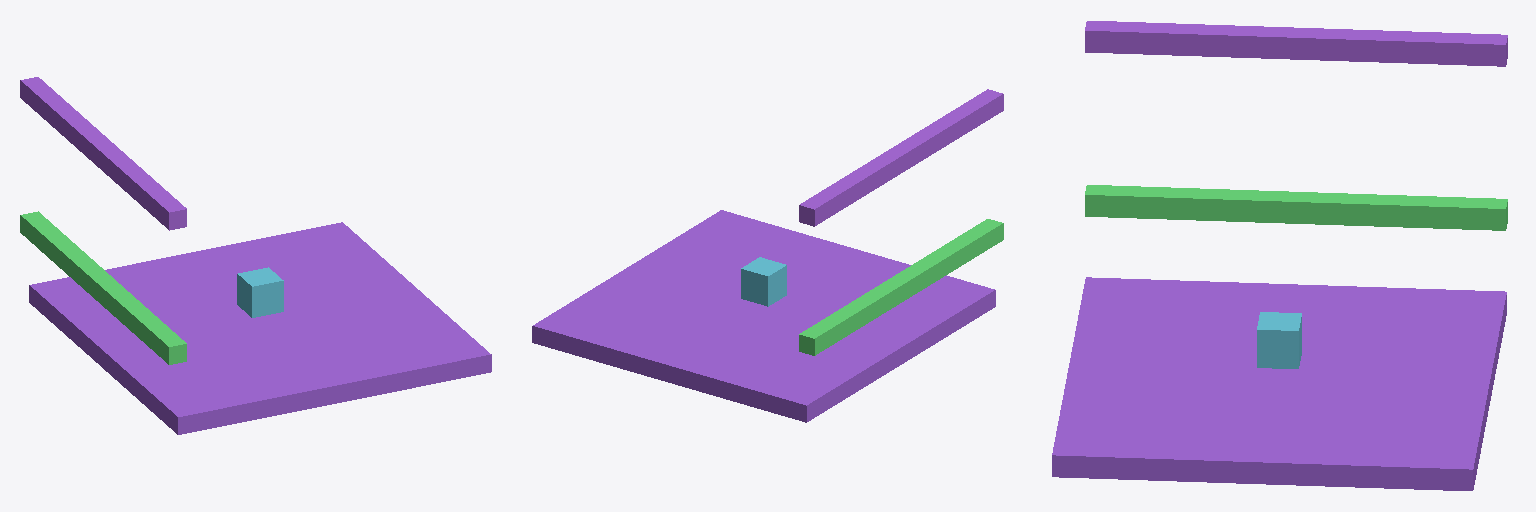
The robot description file, URDF, robot "robot":
<?xml version="1.0" encoding="utf-8"?>
<robot name="" version="1.0">
	<link name="_builder_root_link">
	</link>
	<link name="Cube1">
		<visual>
			<geometry>
				<box size="0.07 0.07 0.07"/>
			</geometry>
			<origin xyz="0.7444402652852363 -0.1411031622851692 0.2599367587044526" rpy="0.0 0.0 -0.07994997885362974"/>
			<material name="">
				<color rgba="0.45 0.8199499438516796 0.9 1.0"/>
			</material>
		</visual>
		<collision>
			<geometry>
				<box size="0.07 0.07 0.07"/>
			</geometry>
			<origin xyz="0.7444402652852363 -0.1411031622851692 0.2599367587044526" rpy="0.0 0.0 -0.07994997885362974"/>
		</collision>
	</link>
	<link name="base">
		<visual>
			<geometry>
				<box size="0.7 0.7 0.04"/>
			</geometry>
			<origin xyz="0.7444402652852363 -0.1411031622851692 0.1799367587044526" rpy="0.0 0.0 -0.07994997885362974"/>
			<material name="">
				<color rgba="0.6824567093281075 0.45 0.9 1.0"/>
			</material>
		</visual>
		<collision>
			<geometry>
				<box size="0.7 0.7 0.04"/>
			</geometry>
			<origin xyz="0.7444402652852363 -0.1411031622851692 0.1799367587044526" rpy="0.0 0.0 -0.07994997885362974"/>
		</collision>
	</link>
	<link name="side_frontA">
		<visual>
			<geometry>
				<box size="0.04 0.7 0.04"/>
			</geometry>
			<origin xyz="0.3955582694171783 -0.1131504708383623 0.3399367587044526" rpy="0.0 0.0 -0.07994997885362974"/>
			<material name="">
				<color rgba="0.45 0.9 0.5160225099418313 1.0"/>
			</material>
		</visual>
		<collision>
			<geometry>
				<box size="0.04 0.7 0.04"/>
			</geometry>
			<origin xyz="0.3955582694171783 -0.1131504708383623 0.3399367587044526" rpy="0.0 0.0 -0.07994997885362974"/>
		</collision>
	</link>
	<link name="side_frontB">
		<visual>
			<geometry>
				<box size="0.04 0.7 0.04"/>
			</geometry>
			<origin xyz="0.3955582694171783 -0.1131504708383623 0.6399367587044525" rpy="0.0 0.0 -0.07994997885362974"/>
			<material name="">
				<color rgba="0.7026262155734003 0.45 0.9 1.0"/>
			</material>
		</visual>
		<collision>
			<geometry>
				<box size="0.04 0.7 0.04"/>
			</geometry>
			<origin xyz="0.3955582694171783 -0.1131504708383623 0.6399367587044525" rpy="0.0 0.0 -0.07994997885362974"/>
		</collision>
	</link>
	<joint name="Cube1_joint" type="fixed">
		<parent link="_builder_root_link"/>
		<child link="Cube1"/>
	</joint>
	<joint name="base_joint" type="fixed">
		<parent link="_builder_root_link"/>
		<child link="base"/>
	</joint>
	<joint name="side_frontA_joint" type="fixed">
		<parent link="_builder_root_link"/>
		<child link="side_frontA"/>
	</joint>
	<joint name="side_frontB_joint" type="fixed">
		<parent link="_builder_root_link"/>
		<child link="side_frontB"/>
	</joint>
</robot>

--- Render facts (derived) ---
The picture shows the robot from 3 angles, left to right: view 1: azimuth 30°, elevation 25°; view 2: azimuth 150°, elevation 25°; view 3: azimuth 270°, elevation 25°; orthographic projection.
Robot: robot — 5 links, 4 joints (4 fixed); root link _builder_root_link; default pose: every joint at zero.
Links seen in each view (by area): view 1: base, side_frontA, side_frontB, Cube1; view 2: base, side_frontB, side_frontA, Cube1; view 3: base, side_frontA, side_frontB, Cube1.
Link boxes in pixels (<box>): base: <box>29,222,491,434</box>; side_frontA: <box>20,211,186,364</box>; side_frontB: <box>20,77,186,230</box>; Cube1: <box>237,267,283,317</box>; base: <box>532,210,995,422</box>; side_frontB: <box>799,89,1003,226</box>; side_frontA: <box>799,219,1003,355</box>; Cube1: <box>741,257,786,306</box>; base: <box>1052,277,1506,490</box>; side_frontA: <box>1085,185,1507,230</box>; side_frontB: <box>1085,21,1507,66</box>; Cube1: <box>1257,312,1301,368</box>.
Size in the robot's own frame: 0.7736 by 0.7553 by 0.5 metres.
Geometry: primitives only (box / cylinder / sphere), no mesh files.